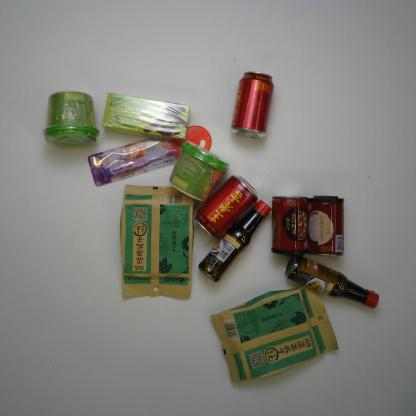Canned Food: (306, 193, 348, 260), (274, 190, 310, 257)
Dried Food: (209, 285, 340, 386), (119, 180, 199, 298)
Drink: (198, 172, 258, 238), (230, 67, 275, 139)
Instant Drink: (104, 90, 190, 144), (167, 138, 231, 204), (42, 90, 102, 150)
Personal Hygiene: (88, 122, 212, 188)
Seasoner: (198, 197, 271, 280), (281, 254, 381, 309)
